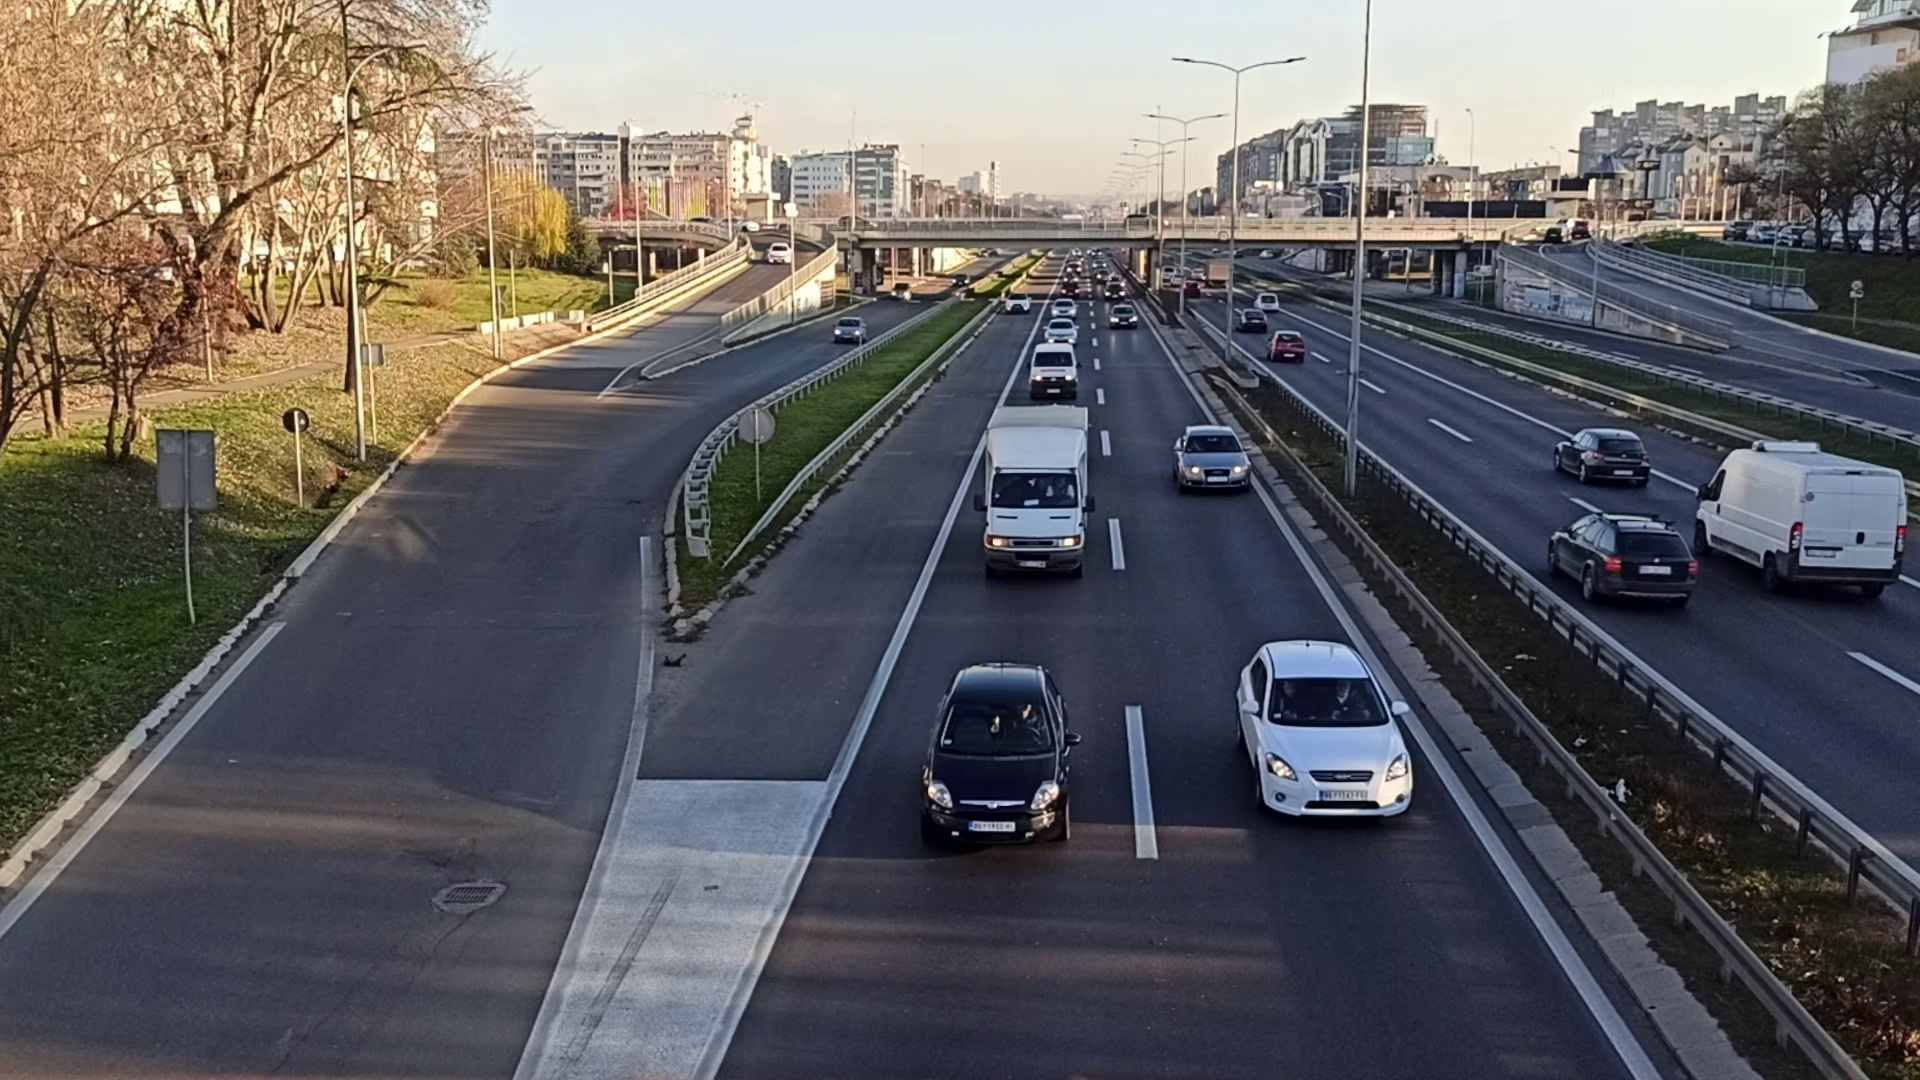car: (1236, 640, 1415, 829), (920, 659, 1073, 848), (1545, 513, 1692, 604), (1549, 429, 1650, 491), (1171, 425, 1251, 495), (1269, 330, 1305, 360), (833, 315, 865, 340), (1044, 319, 1076, 343), (1106, 303, 1135, 327), (1050, 297, 1077, 319), (766, 243, 794, 262)
van: (1693, 440, 1905, 595), (980, 402, 1091, 579), (1029, 344, 1077, 397)
